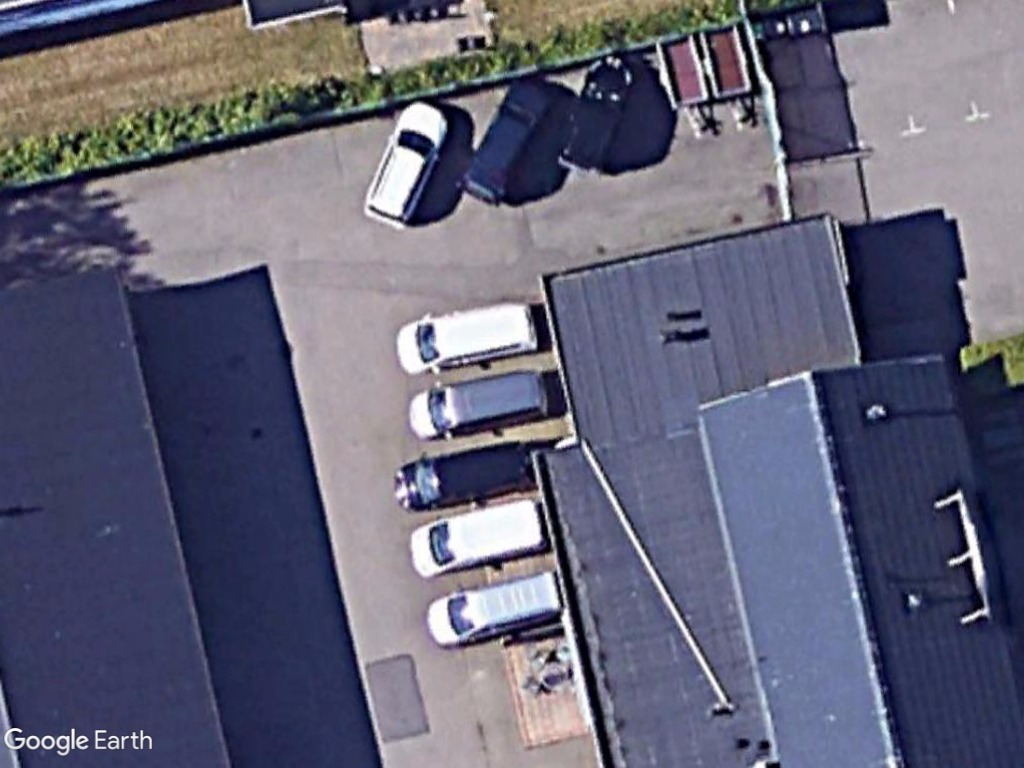van: (402, 494, 549, 581), (361, 96, 453, 234), (393, 295, 545, 378), (387, 435, 537, 514), (422, 567, 565, 649), (402, 367, 553, 444)
